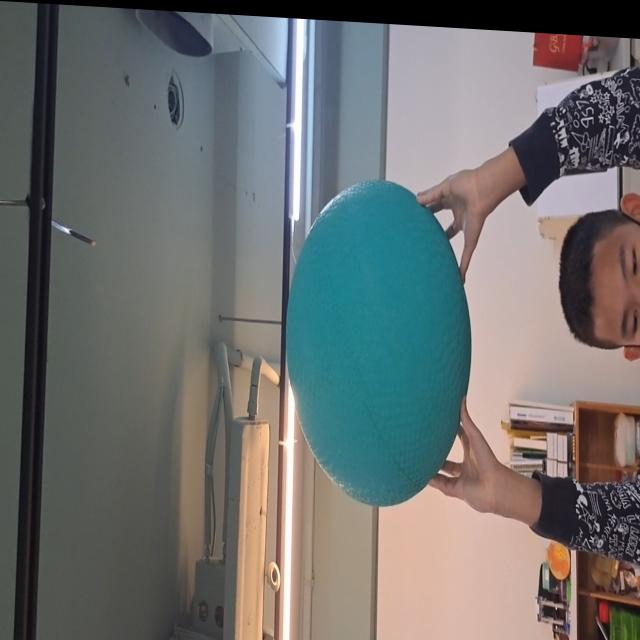ALGAE: (286, 172, 472, 510)
